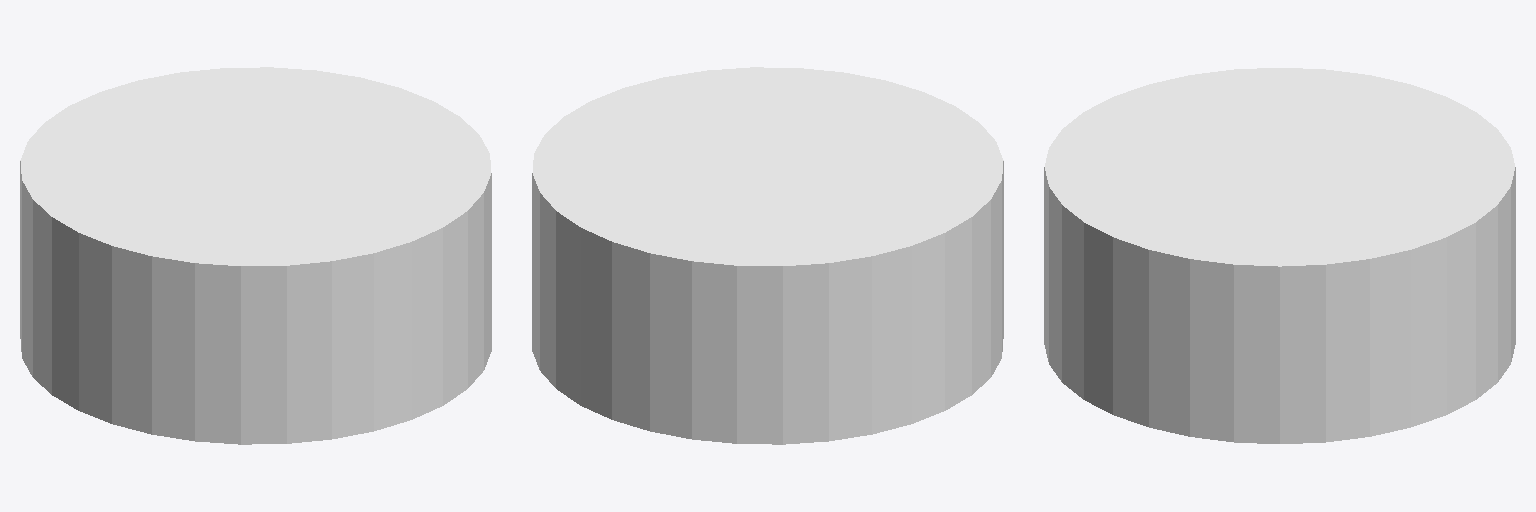
robot.urdf — first_robot:
<?xml version="1.0"?>
<robot name="first_robot">
    <!-- 机器人身体部分 -->
    <link name="base_link">
        <!-- 机器人外观描述 -->
        <visual>
            <!-- 沿着自己几何中心的偏移与旋转量 -->
            <origin xyz="0.0 0.0 0.0" rpy="0.0 0.0 0.0"/>
            <!-- 几何形状 -->
            <geometry>
                <!-- 圆柱体，高度0.1，半径0.12m -->
                <cylinder radius="0.12" length="0.10"/>
            </geometry>
            <!-- 材质子标签-白色-透明度50 -->
            <material name="white">
                <color rgba="1.0 1.0 1.0 0.5"/>
            </material>           
        </visual>
    </link>

    <!-- 机器人IMU部件 -->
    <link name="imu_link">
        <visual>
            <origin xyz="0.0 0.0 0.0" rpy="0.0 0.0 0.0"/>
            <geometry>
                <box size="0.02 0.02 0.02"/>
            </geometry>
            <material name="black">
                <color rgba="0.0 0.0 0.0 0.5"/>
            </material>
        </visual>   
    </link>

    <!-- 机器人关节 -->
    <joint name="imu_joint" type="fixed">
        <!-- 父部件 -->
        <parent link="base_link"/>
        <!-- 子部件 -->
        <child link="imu_link"/>
        <!-- 子部件相对父部件的平移和旋转 -->
        <origin xyz="0.0 0.0 0.03" rpy="0.0 0.0 0.0"/>
    </joint>

    
</robot>

--- Render facts (derived) ---
3 views of the same robot in one strip: view 1: azimuth 30°, elevation 25°; view 2: azimuth 150°, elevation 25°; view 3: azimuth 270°, elevation 25° (orthographic).
Robot: first_robot — 2 links, 1 joints (1 fixed); root link base_link; default pose: all joints at 0.
Visible links, largest first — view 1: base_link; view 2: base_link; view 3: base_link.
Link boxes in pixels (x1,y1,x2,y2): base_link: [20, 67, 491, 444]; base_link: [532, 67, 1003, 444]; base_link: [1044, 68, 1515, 443].
Bounding box of the posed robot: 0.24 × 0.24 × 0.1 m (x, y, z).
Geometry: primitives only (box / cylinder / sphere), no mesh files.
